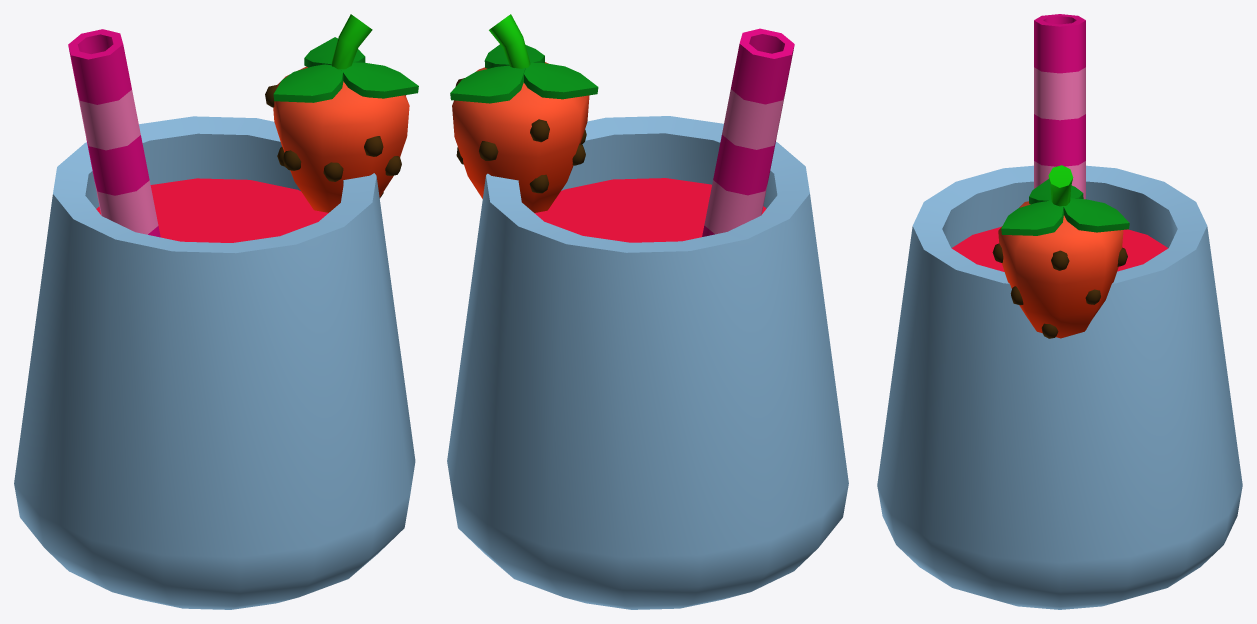
File: Smoothie_02_Strawberry.fbx
3 views of the same model, side by side, from view 1: azimuth 30°, elevation 25°; view 2: azimuth 150°, elevation 25°; view 3: azimuth 270°, elevation 25° (orthographic). The views are drawn at different scales.
Parts seen in each view (by area): view 1: Smoothie_02_Strawberry; view 2: Smoothie_02_Strawberry; view 3: Smoothie_02_Strawberry.
Boxes of the visible parts, x1,y1,x2,y2 form: Smoothie_02_Strawberry: [14, 14, 418, 609]; Smoothie_02_Strawberry: [447, 14, 848, 609]; Smoothie_02_Strawberry: [877, 14, 1242, 609].
Size of the model in its own units: 49.76 by 72.05 by 47.57.
